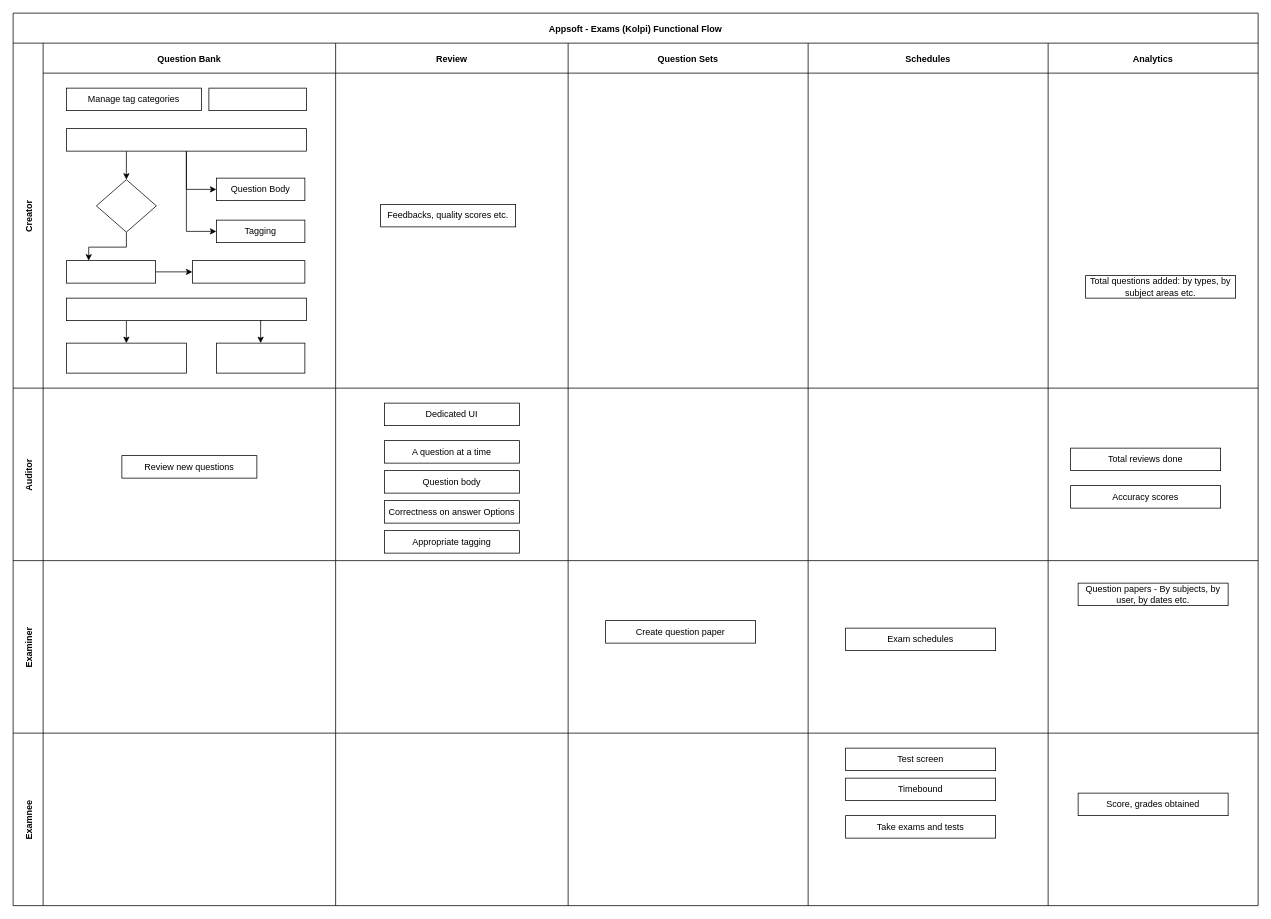
The diagram is 1271 pixels wide and 919 high, and some of its shapes have lost their labels. The box of each missing label's shape, as (x1, y1, x2, y2) in pixels:
Add Questions - N: (66, 128, 306, 151)
Answer Options - N: (66, 260, 156, 283)
Audits Created date, by etc.: (216, 342, 305, 373)
Manage tags: (208, 87, 306, 111)
Objective?: (96, 179, 156, 232)
Save Questions - N: (66, 297, 306, 321)
Store Tables, Cloud storage etc.: (66, 342, 186, 373)
Text, Image, Audio, Video,: (192, 260, 305, 283)
